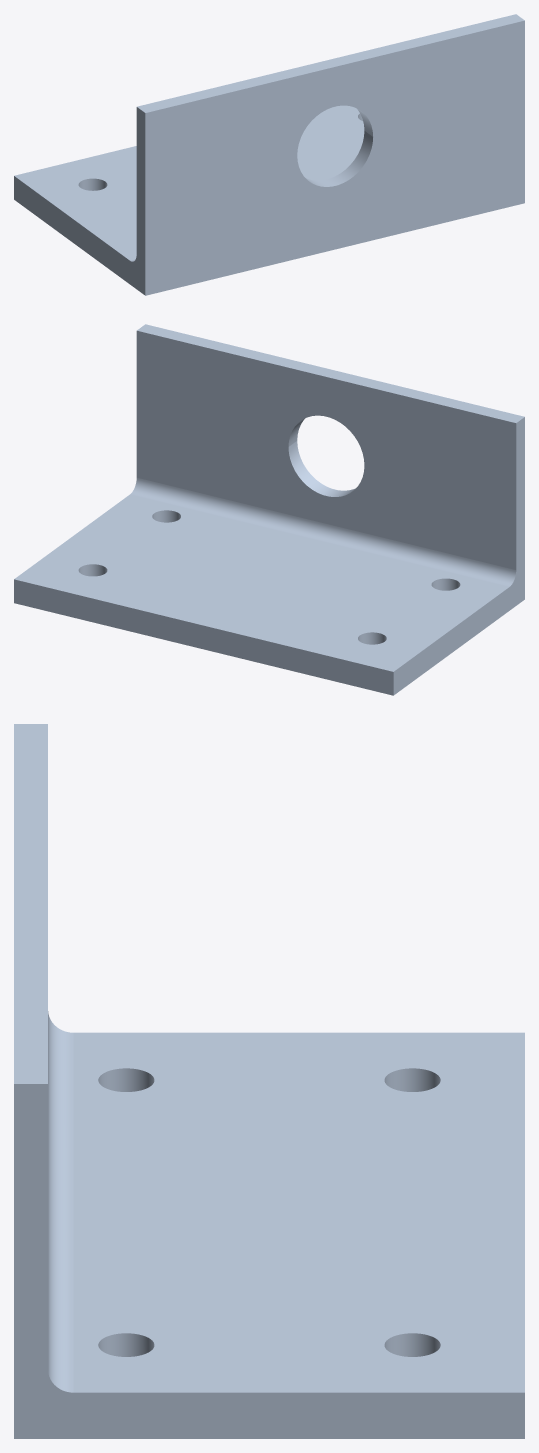
3 views of the same model, one above another, from view 1: azimuth 30°, elevation 25°; view 2: azimuth 150°, elevation 25°; view 3: azimuth 270°, elevation 25° (orthographic). The views are drawn at different scales.
Visible parts, largest first — view 1: part; view 2: part; view 3: part.
Part boxes in pixels (<box>): part: <box>14,14,524,295</box>; part: <box>14,324,524,695</box>; part: <box>14,724,524,1438</box>.
Size of the model in its own units: 100 by 46 by 60.
